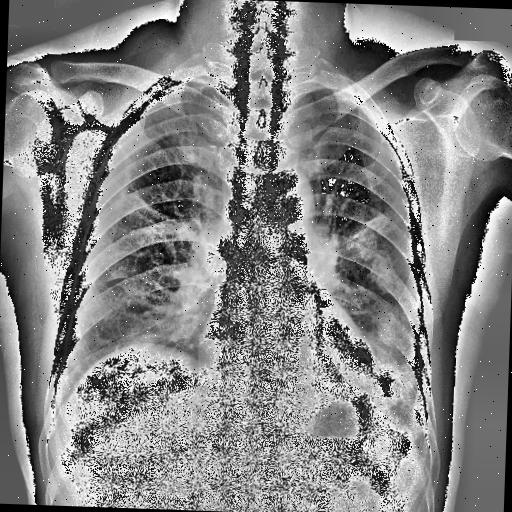0- Aortic enlargement: (260, 169, 315, 241)
13- Pulmonary fibrosis: (344, 216, 420, 396)
3- Cardiomegaly: (195, 294, 383, 399)
4- Consolidation: (364, 304, 422, 420)
7- Lung Opacity: (344, 216, 420, 396), (326, 210, 420, 316)
8- Nodule-Mass: (356, 228, 376, 262)
9- Other lesion: (344, 216, 420, 396)
